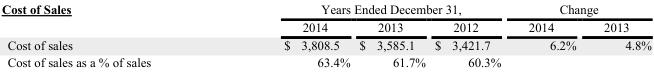table: (0, 1, 650, 69)
table column: (0, 1, 216, 69), (216, 1, 354, 69), (429, 1, 514, 69), (354, 1, 429, 69), (514, 1, 589, 69), (589, 1, 650, 69)
table column header: (0, 1, 650, 35)
table row: (0, 17, 650, 35), (0, 35, 650, 53), (0, 1, 650, 17), (0, 53, 650, 69)
table spanning cell: (0, 1, 216, 35), (216, 1, 514, 17), (514, 1, 650, 17)
